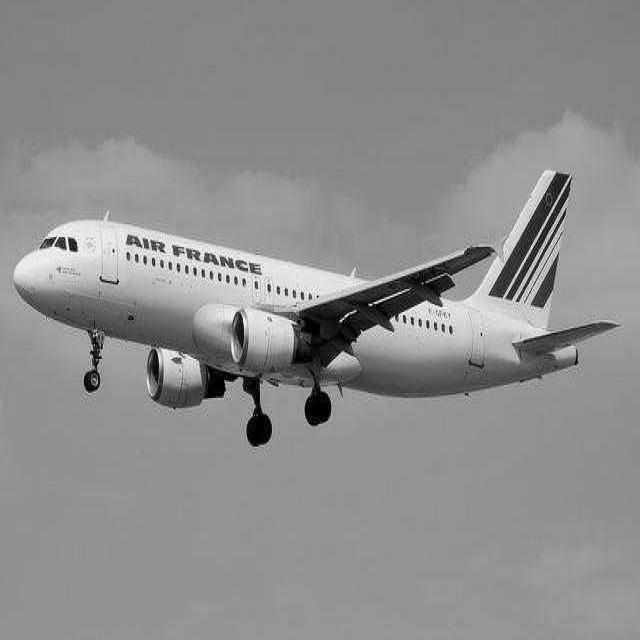Aircraft: (10, 180, 616, 438)
